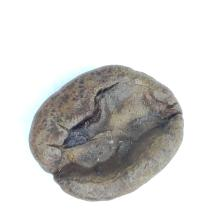NG: (49, 81, 169, 185)
